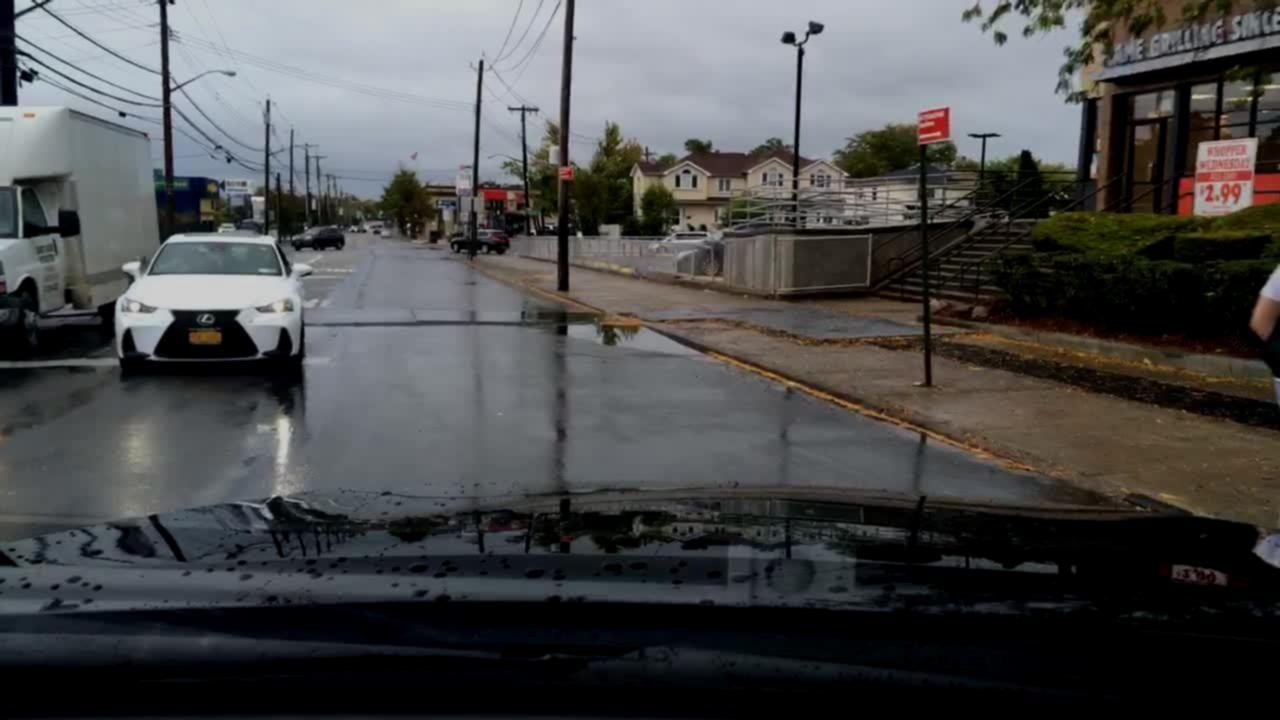lexus: (192, 309, 218, 330)
